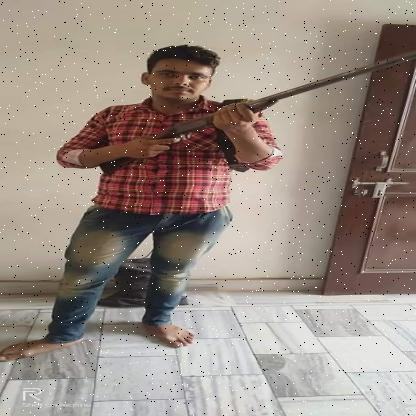rifle: (97, 49, 415, 177)
